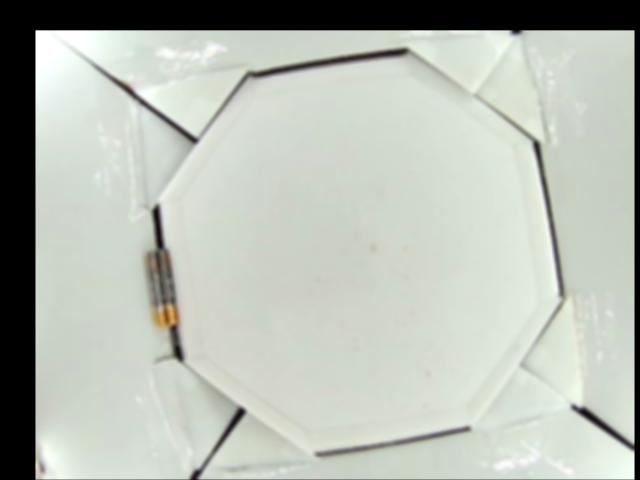Battery: (151, 248, 178, 328)
